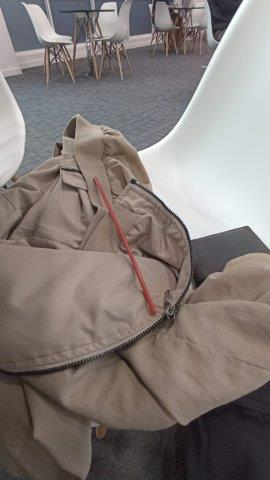sedotan: (94, 177, 155, 314)
